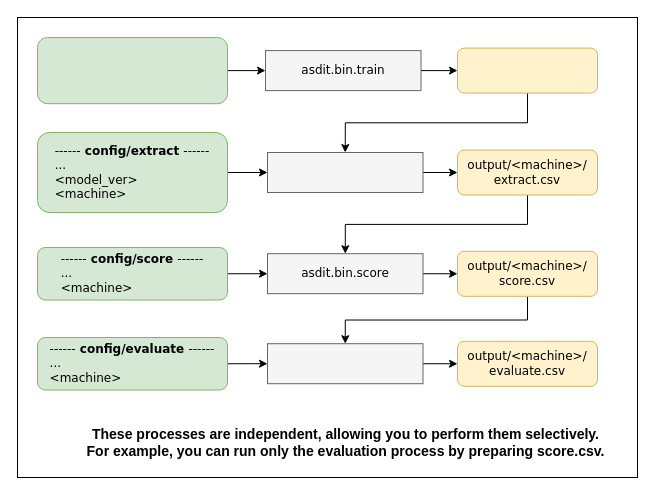
The diagram is 655 pixels wide and 495 high, and some of its shapes have lost their labels. The centre of each missing label's shape, as x and y in pixels:
"------ config/train ------ ... <model_config> <model_ver>" belongs at point 132,70.
"asdit.bin.evaluate" belongs at point 344,363.
"asdit.bin.extract" belongs at point 344,172.
"model / <model_ver>" belongs at point 527,70.
